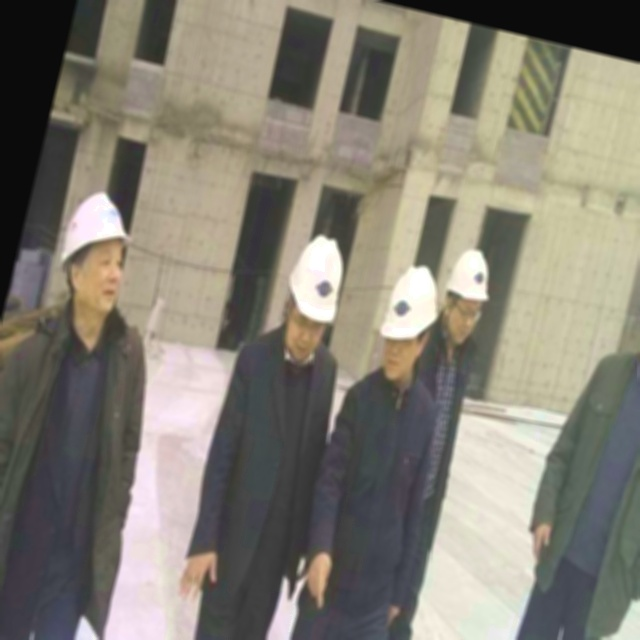Con_Casco: (50, 183, 143, 317), (273, 229, 353, 367), (371, 260, 449, 386), (634, 252, 640, 375)
